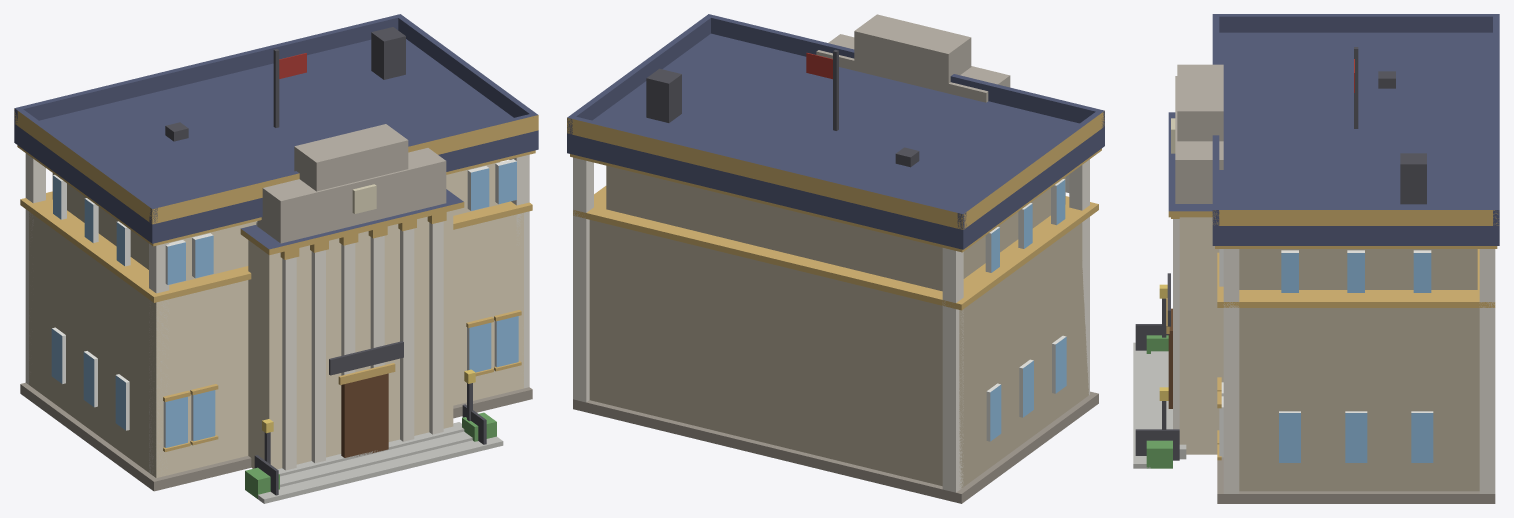
File: Academy.fbx
The picture shows the model from 3 angles, left to right: view 1: azimuth 30°, elevation 25°; view 2: azimuth 150°, elevation 25°; view 3: azimuth 270°, elevation 25°; orthographic projection. The views are drawn at different scales.
Visible parts, largest first — view 1: Academy; view 2: Academy; view 3: Academy.
Boxes of the visible parts, bbox=[...] form: Academy: bbox=[14, 14, 538, 503]; Academy: bbox=[567, 14, 1104, 503]; Academy: bbox=[1133, 14, 1499, 503].
Bounding box in the file's own units: 2100 × 1800 × 1660.
